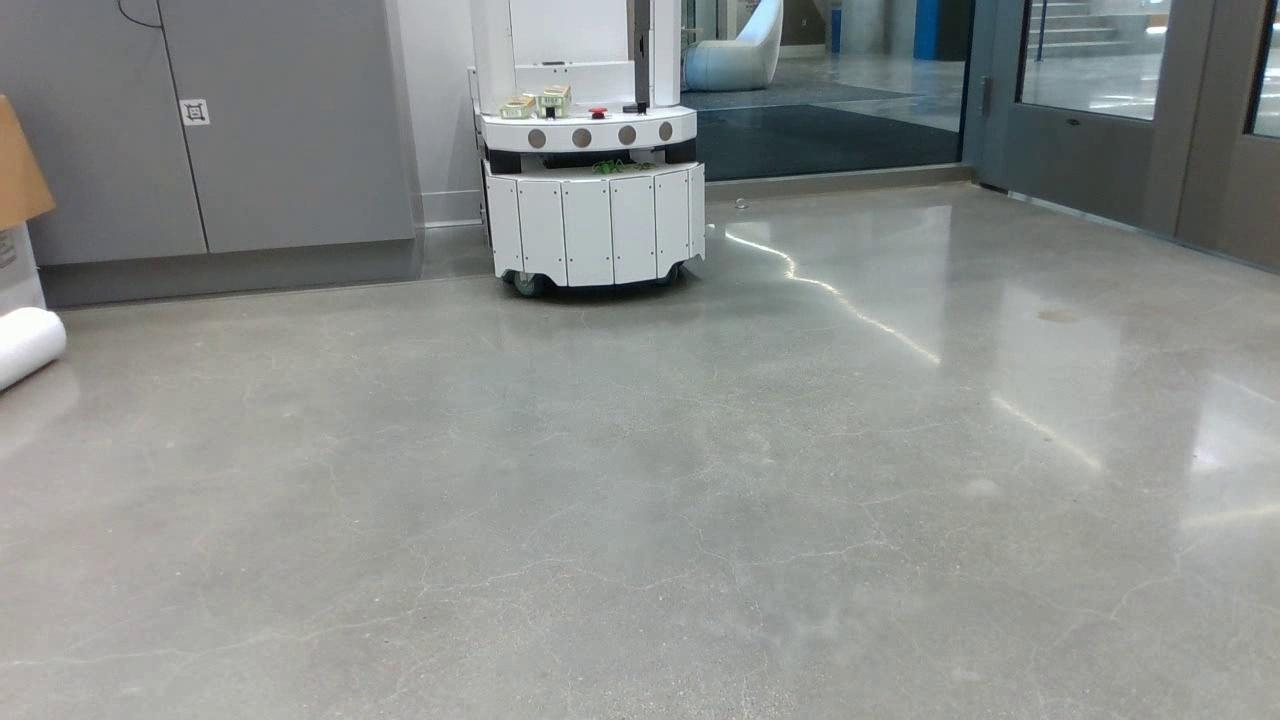grasshopper: (592, 159, 627, 172)
